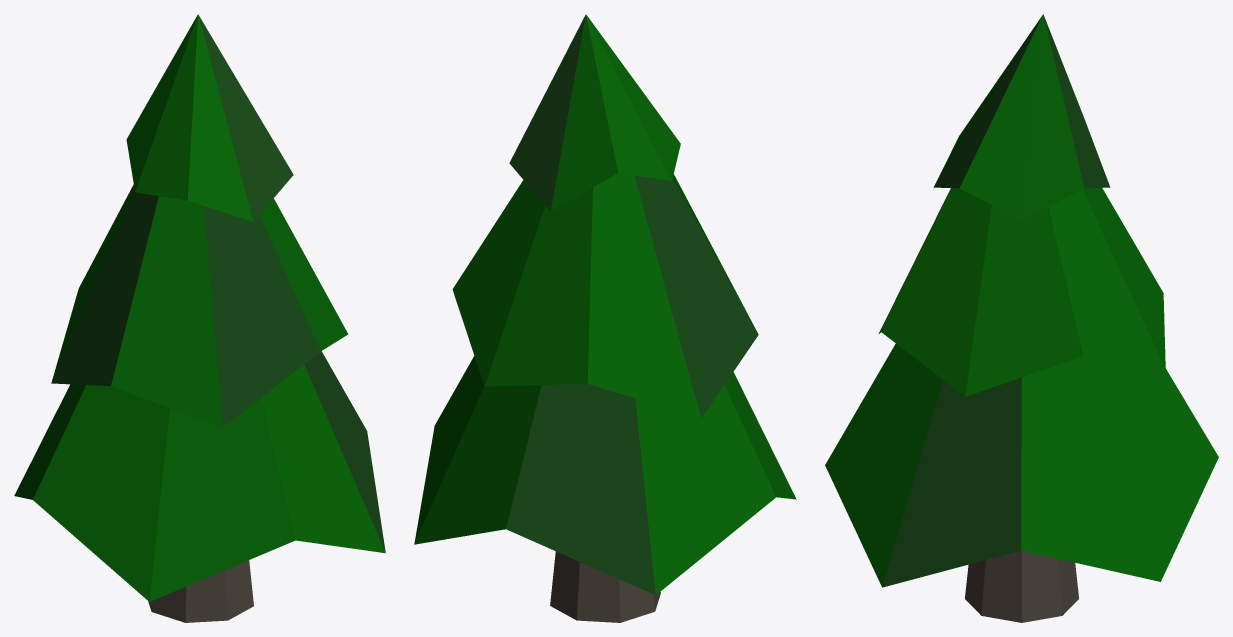
The model's file is Tree_W.fbx.
3 renders of one model, left to right at view 1: azimuth 30°, elevation 25°; view 2: azimuth 150°, elevation 25°; view 3: azimuth 270°, elevation 25°, orthographic. The views are drawn at different scales.
Visible parts, largest first — view 1: pCylinder1; view 2: pCylinder1; view 3: pCylinder1.
Part boxes in pixels (x1,y1,x2,y2): pCylinder1: (14,14,385,622); pCylinder1: (414,14,796,622); pCylinder1: (825,14,1218,622).
Bounding box in the file's own units: 14.2 × 23.44 × 14.21.
